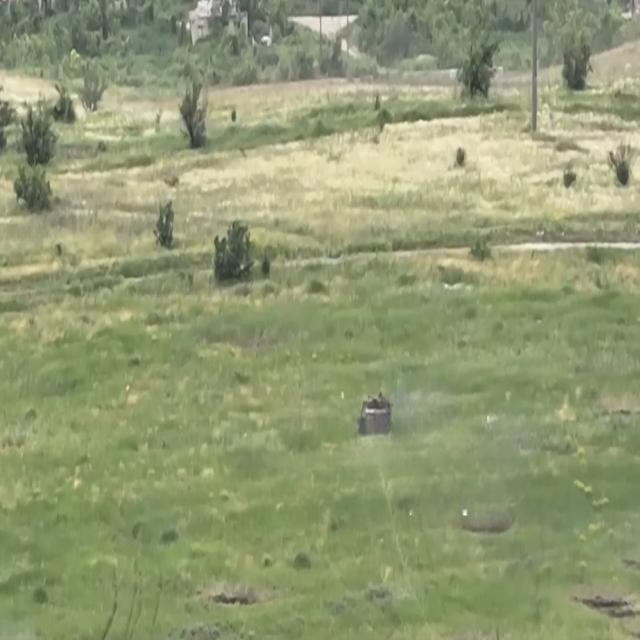AIFV: (358, 390, 394, 438)
